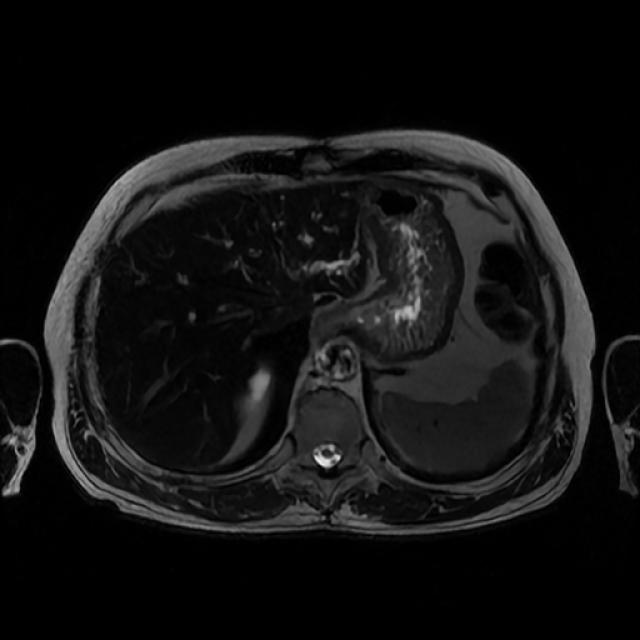sag: (249, 370, 271, 402)
